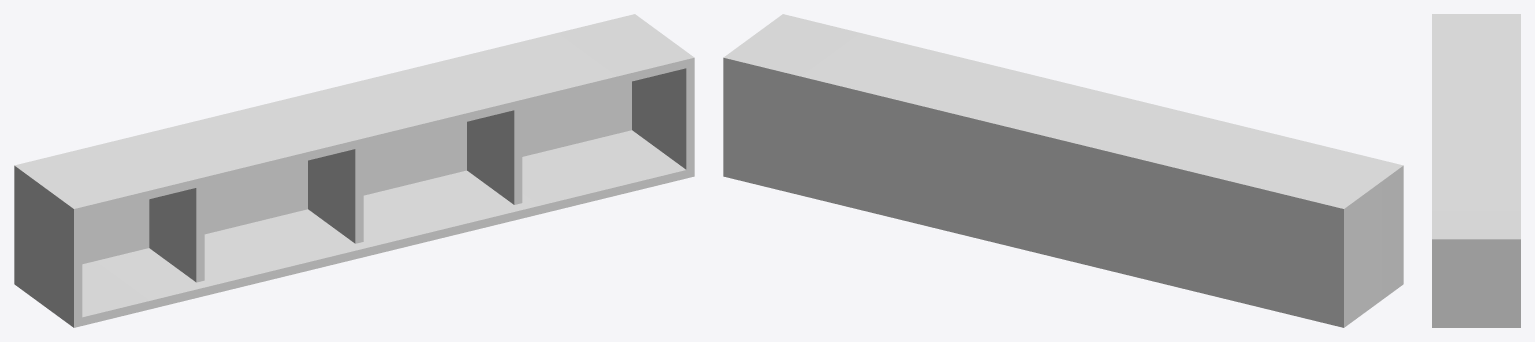
File: shelf_063.glb
The picture shows the model from 3 angles, left to right: view 1: azimuth 30°, elevation 25°; view 2: azimuth 150°, elevation 25°; view 3: azimuth 270°, elevation 25°; orthographic projection. The views are drawn at different scales.
Visible parts, largest first — view 1: shelf_063; view 2: shelf_063; view 3: shelf_063.
Boxes of the visible parts, x1,y1,x2,y2 form: shelf_063: (14, 14, 694, 327); shelf_063: (723, 14, 1403, 327); shelf_063: (1432, 14, 1520, 327).
Size of the model in its own units: 2.21 by 0.4049 by 0.3683.
1 material, 1 textured.
